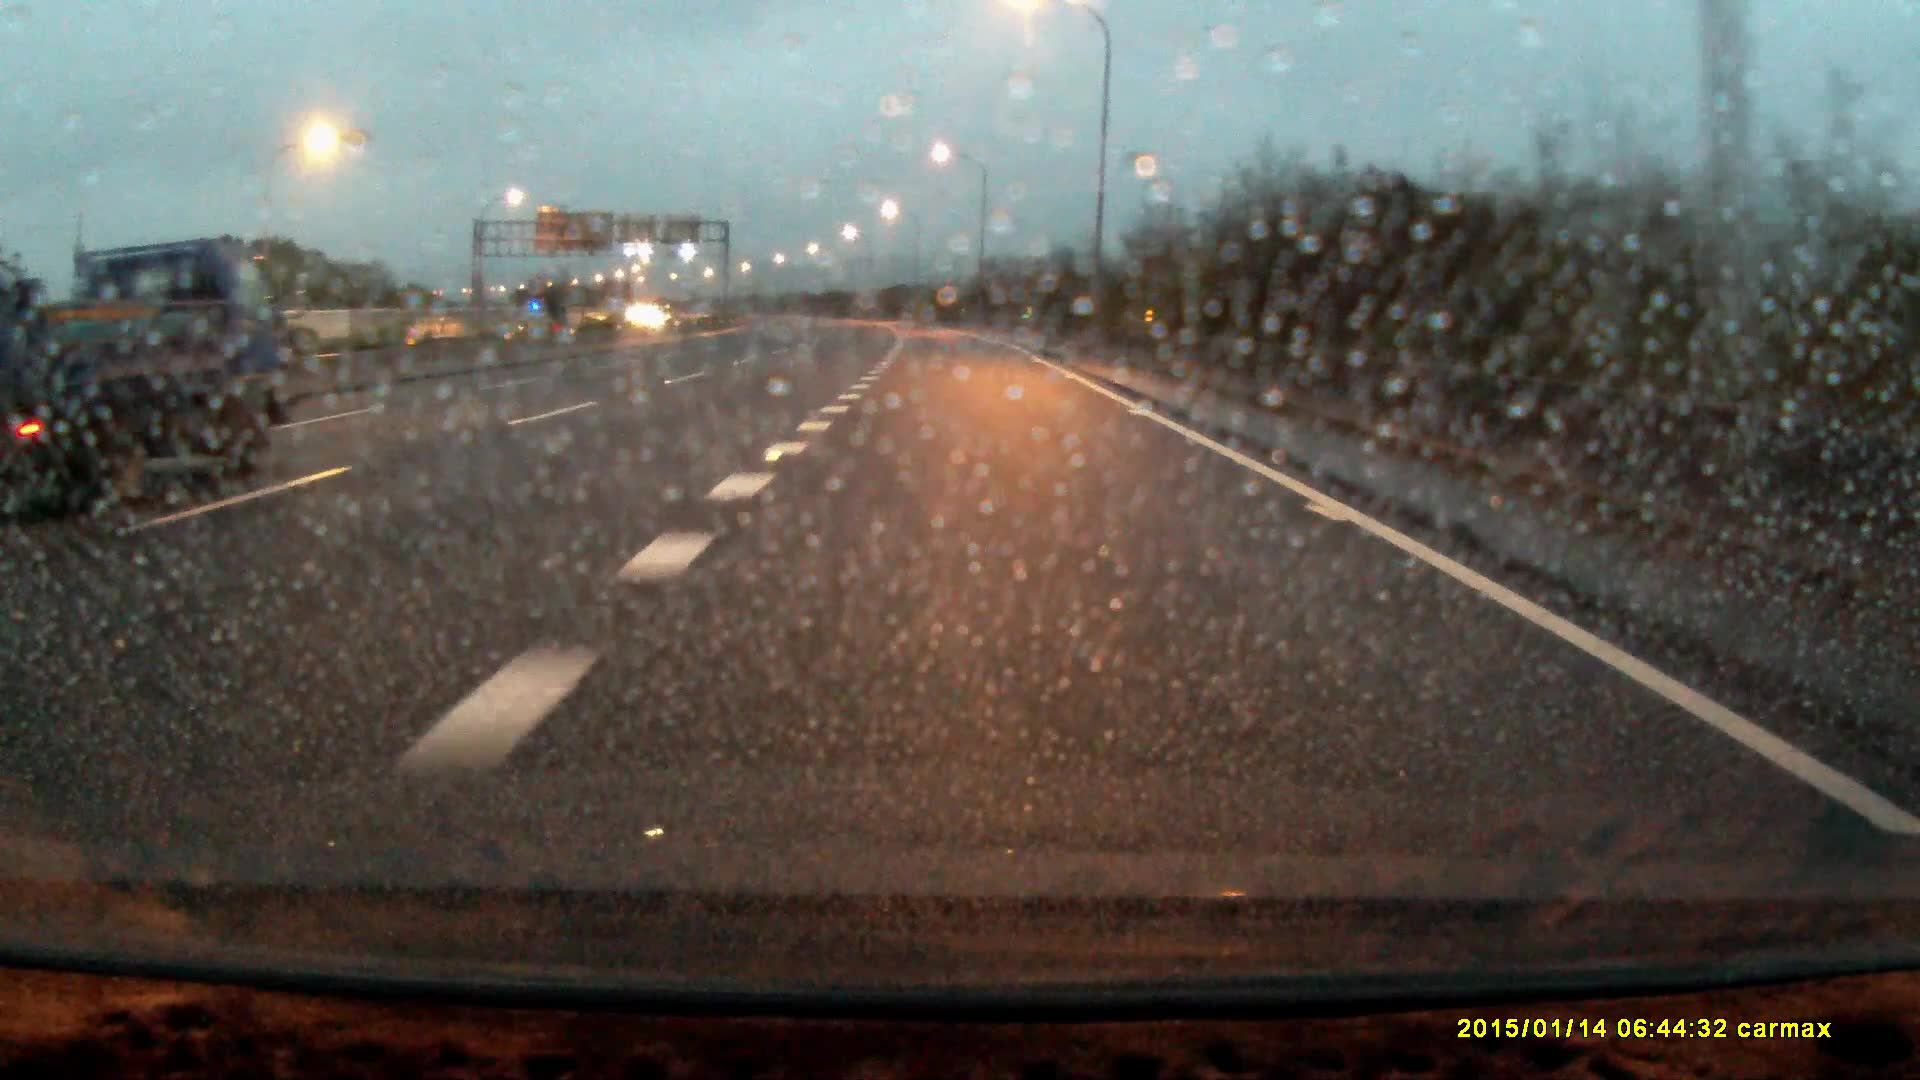vehicle: (1, 223, 351, 517)
